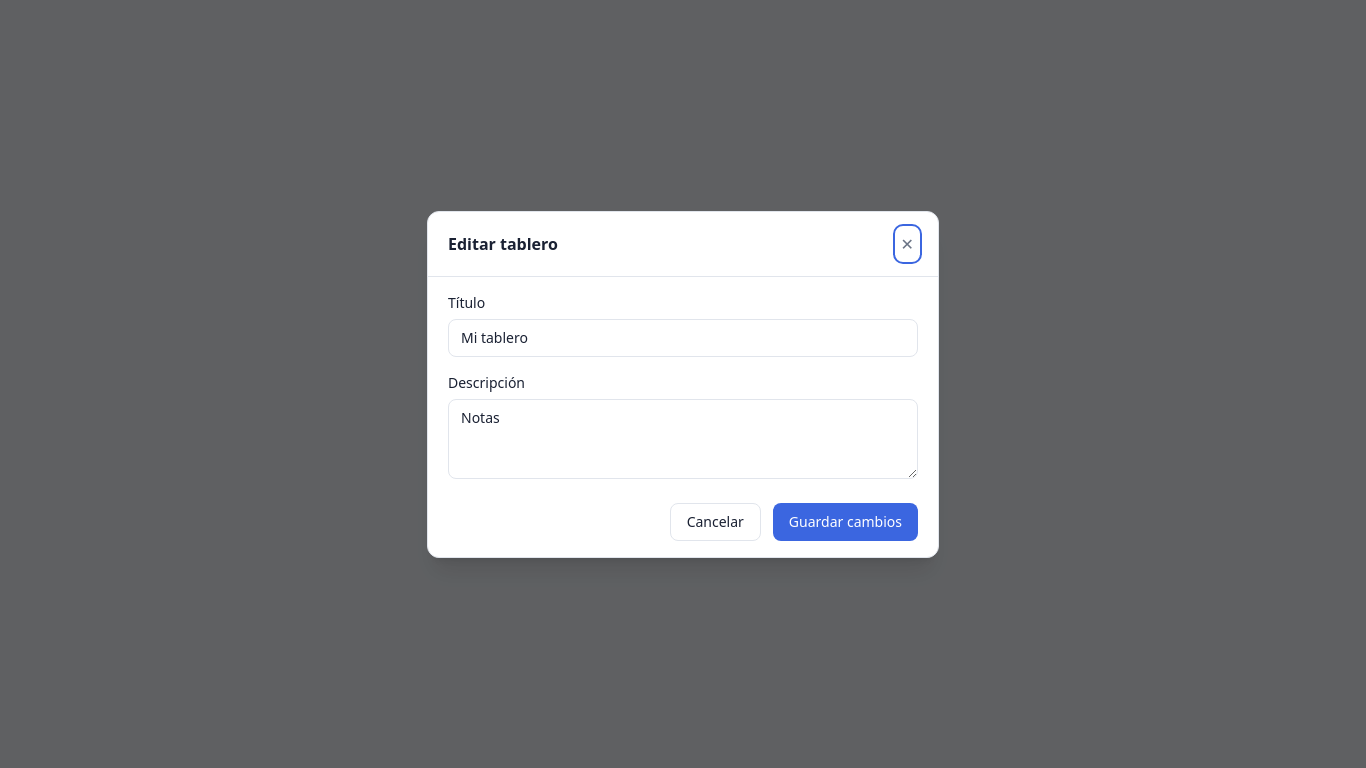
Test: EditBoardModal › valida que el título no quede vacío
Clear the field labelled "Título" at (683, 338), box [448, 318, 918, 356]
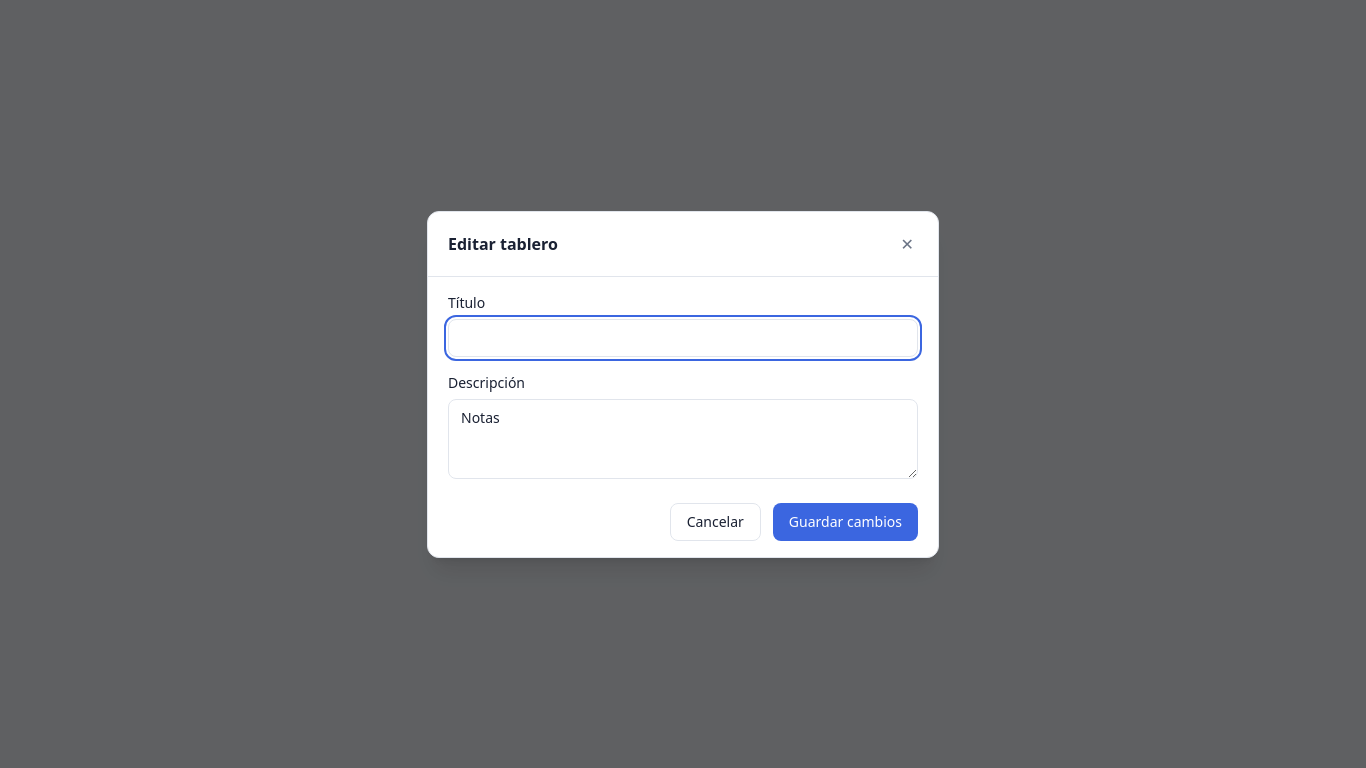
Click the button "Guardar cambios".
click(845, 522)  # box [773, 502, 918, 540]
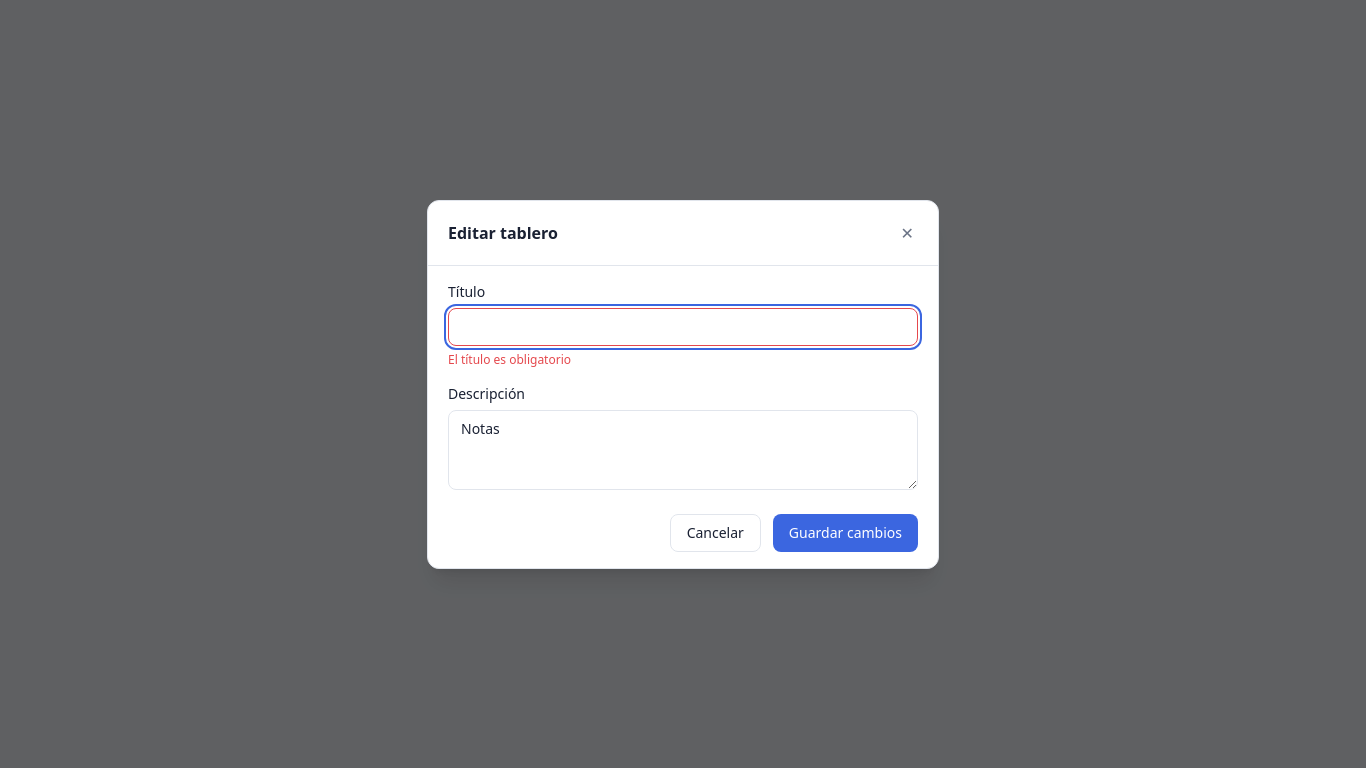
expect the text "El título es obligatorio" is shown: met, box [448, 350, 571, 368]
